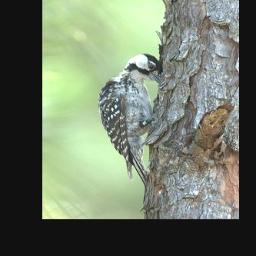Woodpecker: (96, 53, 163, 186)
